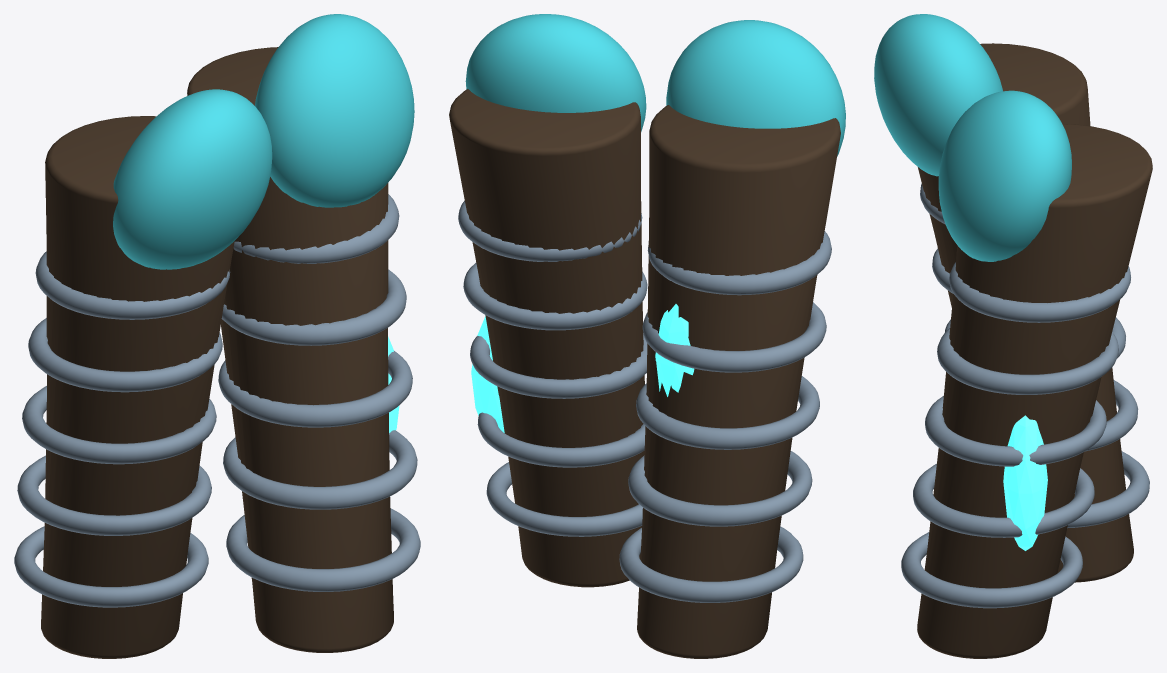
The model's file is greaves_v6.glb.
3 views of the same model, side by side, from view 1: azimuth 30°, elevation 25°; view 2: azimuth 150°, elevation 25°; view 3: azimuth 270°, elevation 25° (orthographic). The views are drawn at different scales.
Visible parts, largest first — view 1: FIELD_GREAVE_SECONDARY, FIELD_GREAVE_SECONDARY.001, ROUND_KNEE_ACCENT.001, ROUND_KNEE_ACCENT, WRAP_PRIMARY.005, WRAP_PRIMARY.006, WRAP_PRIMARY, WRAP_PRIMARY.007, WRAP_PRIMARY.001, WRAP_PRIMARY.002, WRAP_PRIMARY.003, WRAP_PRIMARY.008 (+2 smaller); view 2: FIELD_GREAVE_SECONDARY, FIELD_GREAVE_SECONDARY.001, ROUND_KNEE_ACCENT, ROUND_KNEE_ACCENT.001, WRAP_PRIMARY, WRAP_PRIMARY.001, WRAP_PRIMARY.002, WRAP_PRIMARY.003, WRAP_PRIMARY.007, WRAP_PRIMARY.005, WRAP_PRIMARY.004, WRAP_PRIMARY.006 (+4 smaller); view 3: FIELD_GREAVE_SECONDARY.001, ROUND_KNEE_ACCENT.001, ROUND_KNEE_ACCENT, FIELD_GREAVE_SECONDARY, WRAP_PRIMARY.005, WRAP_PRIMARY.008, WRAP_PRIMARY.006, WRAP_PRIMARY.007, HELIX_SHARD_EMISSIVE, WRAP_PRIMARY.009, WRAP_PRIMARY, WRAP_PRIMARY.001 (+1 smaller).
Boxes of the visible parts, left/top/right/bottom form: FIELD_GREAVE_SECONDARY: left=41, top=116, right=234, bottom=658; FIELD_GREAVE_SECONDARY.001: left=187, top=47, right=393, bottom=652; ROUND_KNEE_ACCENT.001: left=255, top=14, right=414, bottom=207; ROUND_KNEE_ACCENT: left=113, top=89, right=272, bottom=269; WRAP_PRIMARY.005: left=226, top=508, right=420, bottom=591; WRAP_PRIMARY.006: left=223, top=430, right=417, bottom=509; WRAP_PRIMARY: left=14, top=526, right=208, bottom=607; WRAP_PRIMARY.007: left=218, top=351, right=412, bottom=427; WRAP_PRIMARY.001: left=17, top=455, right=211, bottom=535; WRAP_PRIMARY.002: left=22, top=386, right=216, bottom=464; WRAP_PRIMARY.003: left=28, top=318, right=222, bottom=392; WRAP_PRIMARY.008: left=221, top=269, right=406, bottom=345; FIELD_GREAVE_SECONDARY: left=637, top=105, right=840, bottom=658; FIELD_GREAVE_SECONDARY.001: left=449, top=89, right=644, bottom=587; ROUND_KNEE_ACCENT: left=666, top=20, right=845, bottom=156; ROUND_KNEE_ACCENT.001: left=465, top=14, right=646, bottom=131; WRAP_PRIMARY: left=619, top=526, right=803, bottom=602; WRAP_PRIMARY.001: left=628, top=451, right=812, bottom=526; WRAP_PRIMARY.002: left=636, top=376, right=819, bottom=449; WRAP_PRIMARY.003: left=642, top=302, right=826, bottom=372; WRAP_PRIMARY.007: left=470, top=333, right=647, bottom=398; WRAP_PRIMARY.005: left=486, top=462, right=642, bottom=536; WRAP_PRIMARY.004: left=647, top=231, right=831, bottom=295; WRAP_PRIMARY.006: left=477, top=412, right=645, bottom=467; FIELD_GREAVE_SECONDARY.001: left=917, top=124, right=1152, bottom=658; ROUND_KNEE_ACCENT.001: left=938, top=90, right=1071, bottom=261; ROUND_KNEE_ACCENT: left=874, top=14, right=1002, bottom=176; FIELD_GREAVE_SECONDARY: left=918, top=43, right=1133, bottom=582; WRAP_PRIMARY.005: left=901, top=532, right=1082, bottom=608; WRAP_PRIMARY.008: left=937, top=328, right=1118, bottom=394; WRAP_PRIMARY.006: left=913, top=463, right=1094, bottom=537; WRAP_PRIMARY.007: left=925, top=395, right=1106, bottom=466; HELIX_SHARD_EMISSIVE: left=1003, top=415, right=1047, bottom=550; WRAP_PRIMARY.009: left=949, top=262, right=1130, bottom=322; WRAP_PRIMARY: left=1067, top=451, right=1149, bottom=528; WRAP_PRIMARY.001: left=1085, top=380, right=1138, bottom=451.
Size of the model in its own units: 1.4 by 2.15 by 0.9955.
